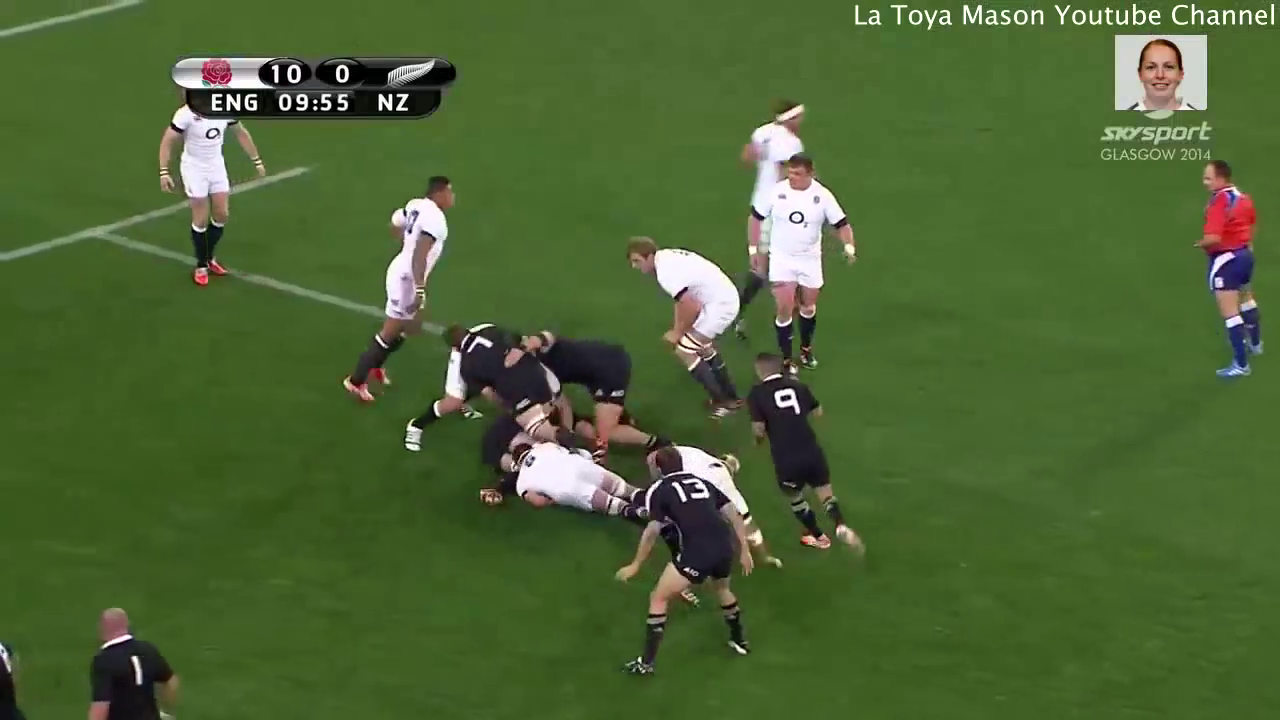player: (612, 442, 757, 683), (339, 163, 470, 408), (737, 348, 883, 560), (745, 144, 863, 387), (615, 224, 757, 420), (152, 88, 269, 300), (1188, 154, 1277, 386), (733, 84, 819, 293), (530, 325, 670, 452), (433, 308, 569, 436), (505, 429, 660, 533), (658, 436, 777, 556), (70, 602, 191, 720), (405, 321, 487, 448)
